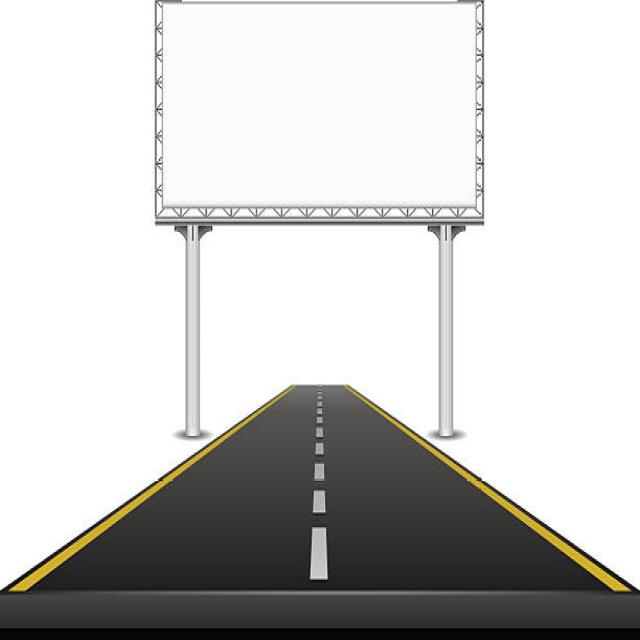Billboard_overhead: (131, 0, 503, 232)
Roadcorner: (367, 406, 631, 595), (20, 401, 281, 590)
Roadlane: (284, 380, 339, 586)
